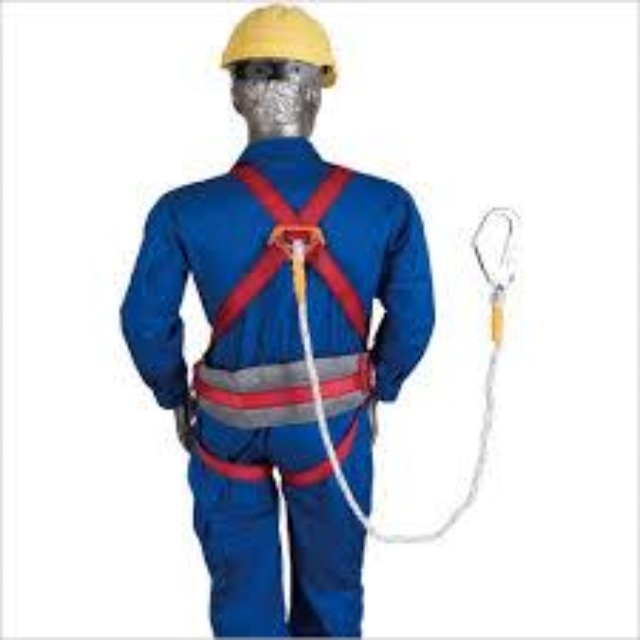Arnes_seguridad: (175, 158, 385, 486)
